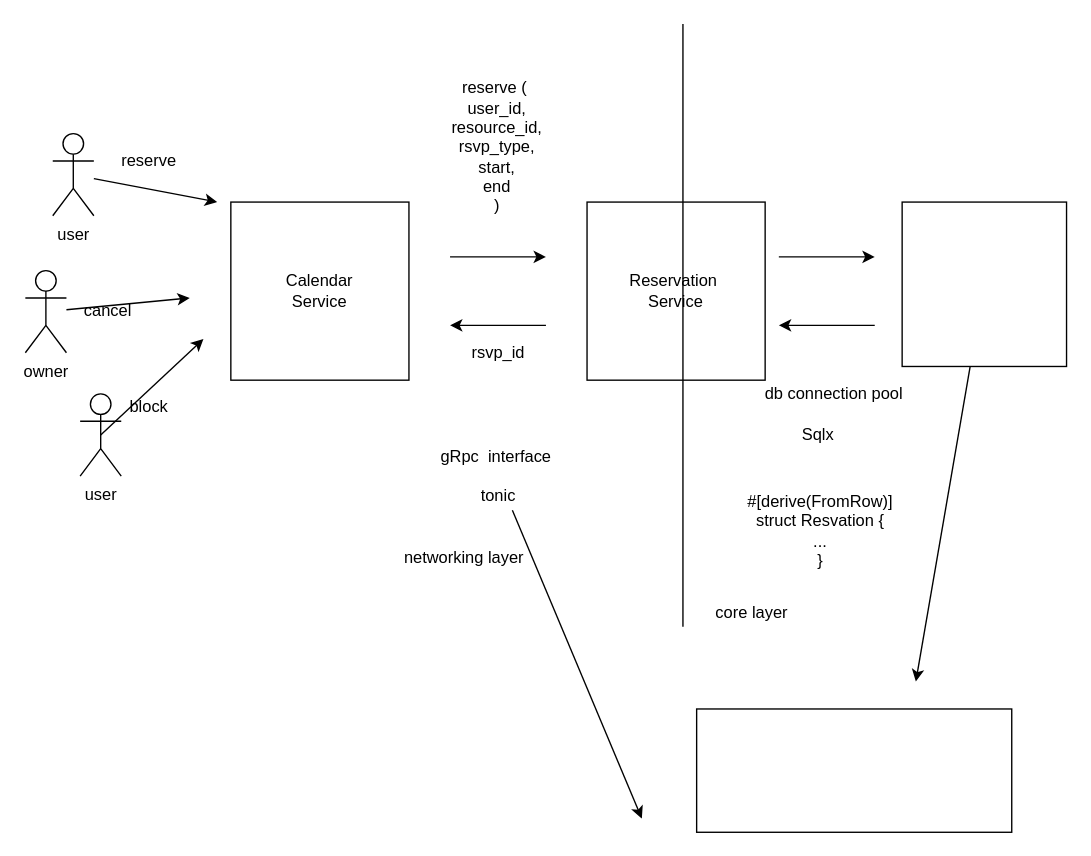
Some shapes in this 1091 by 856 pixel diagram are drawn without their labels. Each missing label, with the centre of its shape:
DB: the point at 984,283
接口和数据库: the point at 853,770
